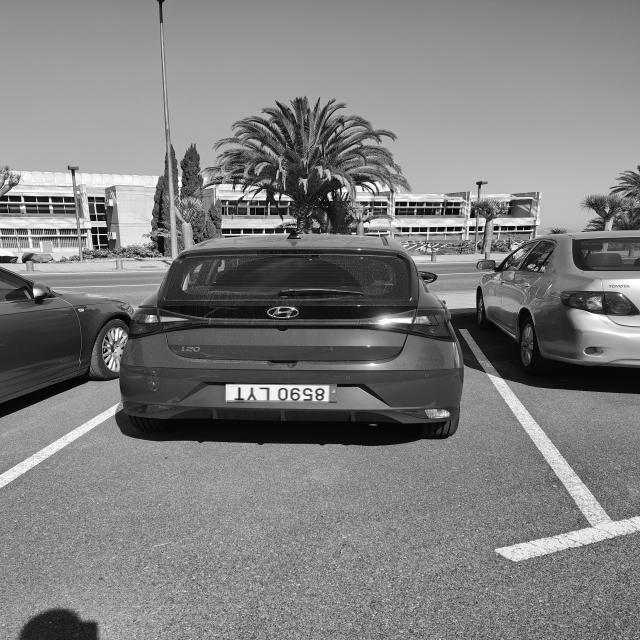License-Plate: (226, 383, 337, 403)
